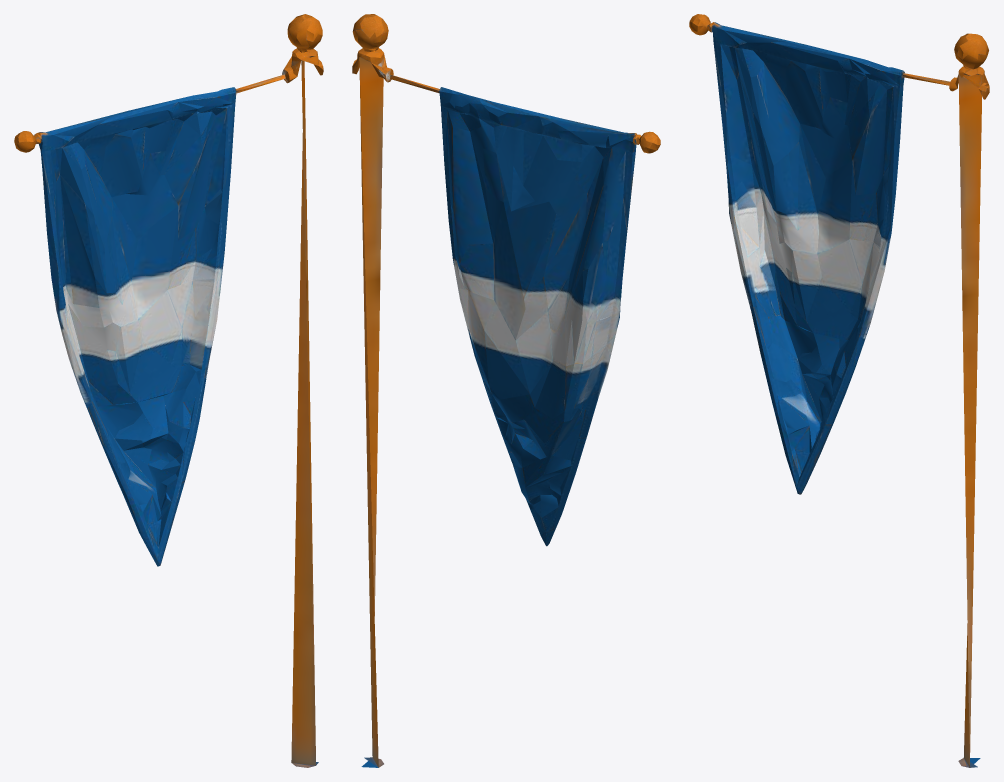
The model's file is banner.glb.
3 views of the same model, side by side, from view 1: azimuth 30°, elevation 25°; view 2: azimuth 150°, elevation 25°; view 3: azimuth 330°, elevation 25° (orthographic). The views are drawn at different scales.
Size of the model in its own units: 0.8139 by 1.9 by 0.139.
Materials: 1 (1 with a texture image).
